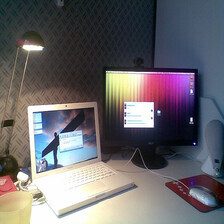laptop: (11, 89, 142, 215)
